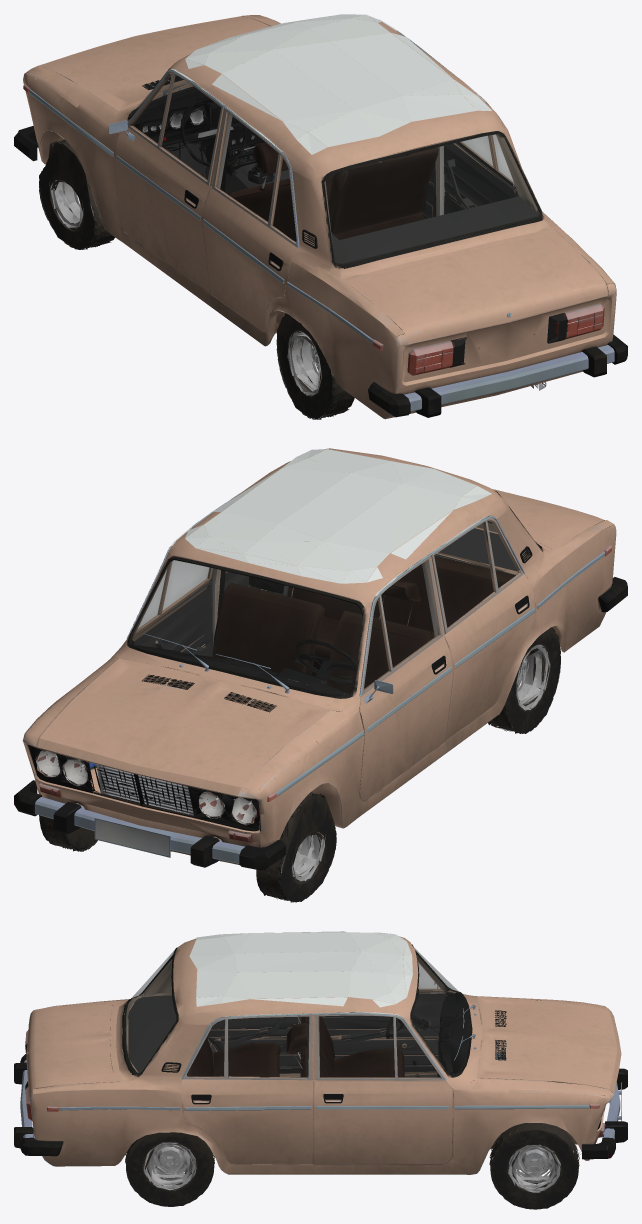
Rendered from vaz2106_static.glb.
3 renders of one model, top to bottom at view 1: azimuth 30°, elevation 25°; view 2: azimuth 150°, elevation 25°; view 3: azimuth 270°, elevation 25°, orthographic. The views are drawn at different scales.
Parts seen in each view (by area): view 1: VAZ2106StaticMesh, VAZSettledSnow; view 2: VAZ2106StaticMesh, VAZSettledSnow; view 3: VAZ2106StaticMesh, VAZSettledSnow.
Boxes of the visible parts, x1,y1,x2,y2 form: VAZ2106StaticMesh: (14, 15, 627, 419); VAZSettledSnow: (171, 14, 491, 154); VAZ2106StaticMesh: (14, 448, 627, 902); VAZSettledSnow: (171, 449, 491, 595); VAZ2106StaticMesh: (14, 936, 627, 1209); VAZSettledSnow: (189, 931, 412, 1016).
Size of the model in its own units: 1.68 by 1.52 by 4.18.
Materials: 12 (11 with a texture image).
